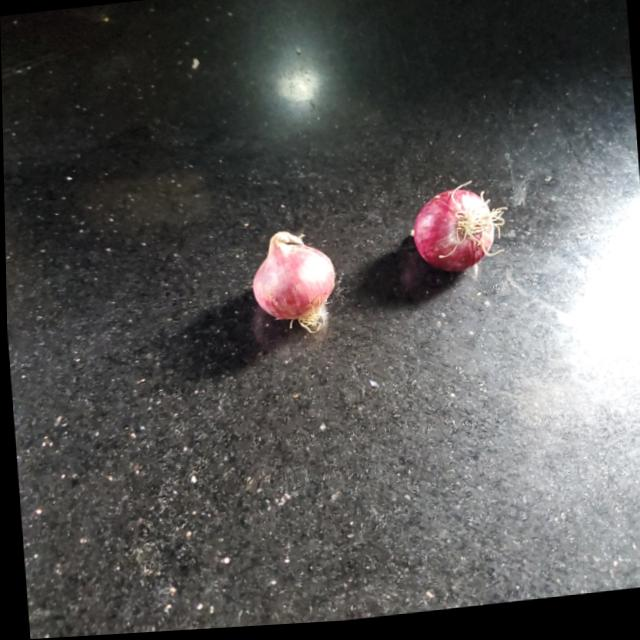onion: (247, 231, 335, 323), (408, 194, 494, 283)
